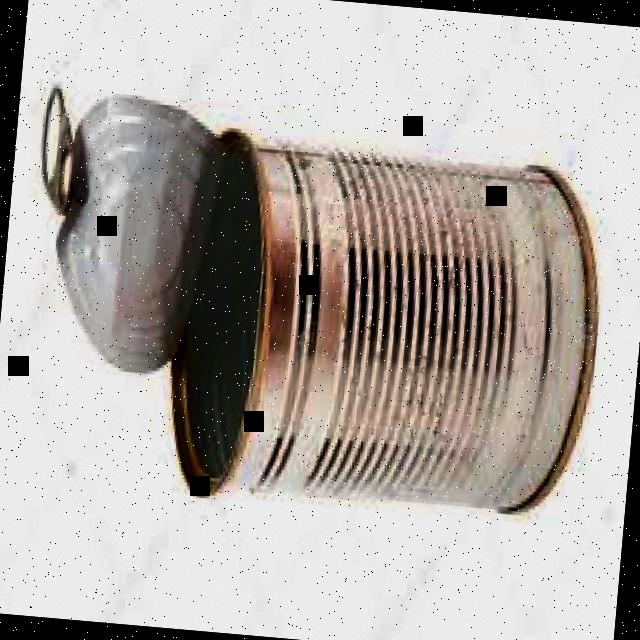can: (8, 78, 615, 524)
